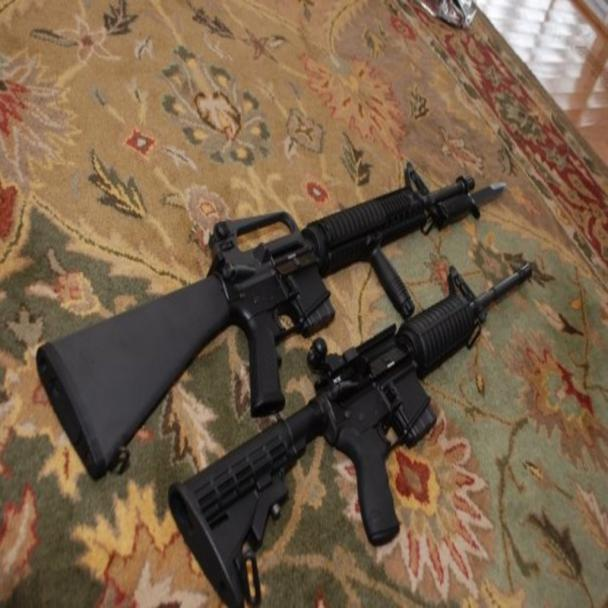Gun: (34, 157, 511, 477), (167, 248, 543, 607)
